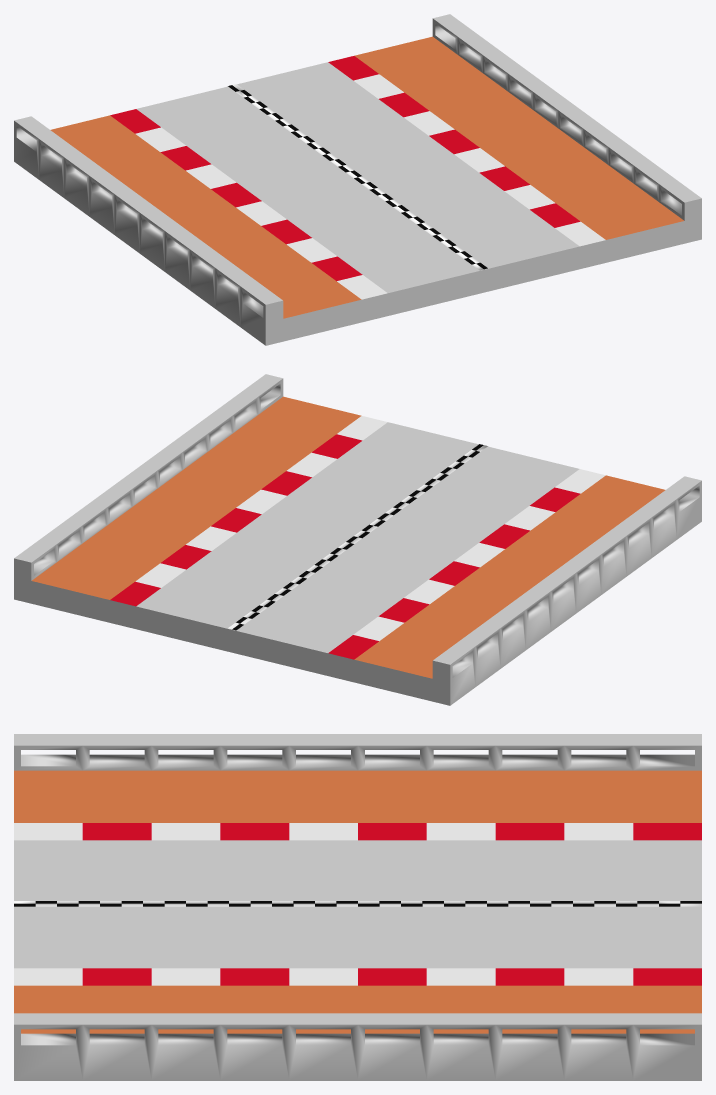
Rendered from ModularTrackStraight-Deux.fbx.
3 renders of one model, top to bottom at view 1: azimuth 30°, elevation 25°; view 2: azimuth 150°, elevation 25°; view 3: azimuth 270°, elevation 25°, orthographic. The views are drawn at different scales.
Parts seen in each view (by area): view 1: ModularTrackStraight, LaneDivider; view 2: ModularTrackStraight, LaneDivider; view 3: ModularTrackStraight, LaneDivider.
Boxes of the visible parts, box(x1,y1,x2,y2) form: ModularTrackStraight: box(14, 14, 701, 345); LaneDivider: box(228, 84, 487, 270); ModularTrackStraight: box(14, 374, 701, 705); LaneDivider: box(228, 444, 487, 630); ModularTrackStraight: box(14, 734, 701, 1080); LaneDivider: box(14, 901, 701, 906).
Size of the model in its own units: 1000 by 90 by 1000.
